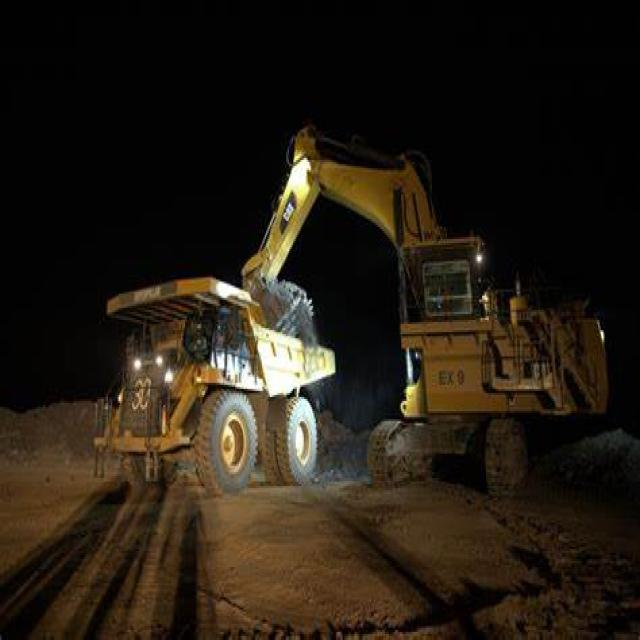dump_truck: (82, 278, 322, 496)
excavator: (247, 120, 602, 500)
